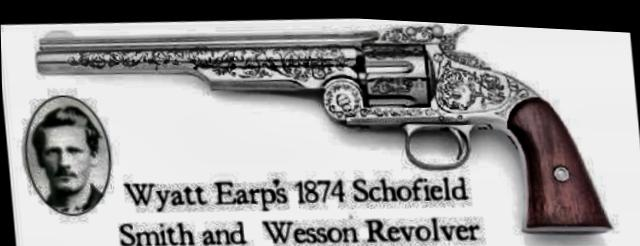pistol: (20, 1, 616, 246)
